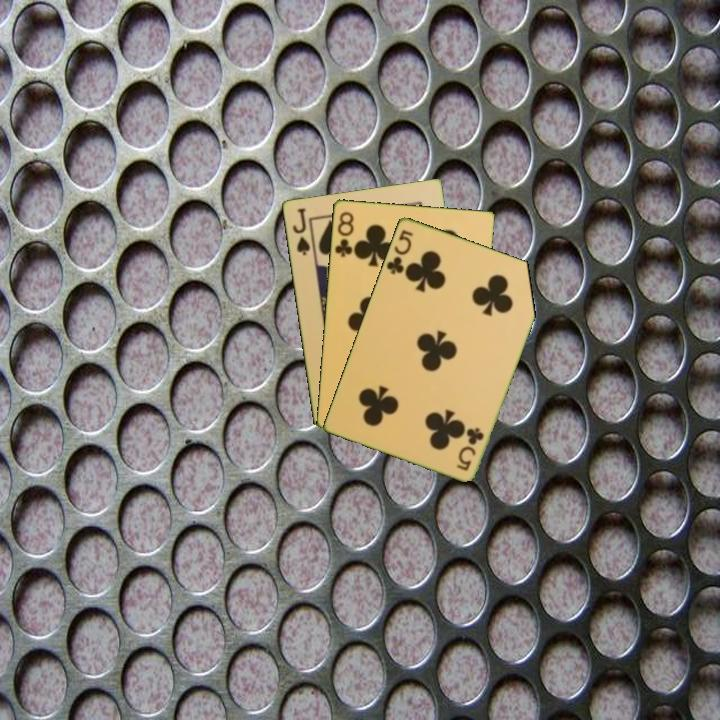5c: (453, 423, 487, 473), (383, 226, 416, 277)
8c: (331, 208, 356, 260)
Js: (289, 204, 313, 258)
